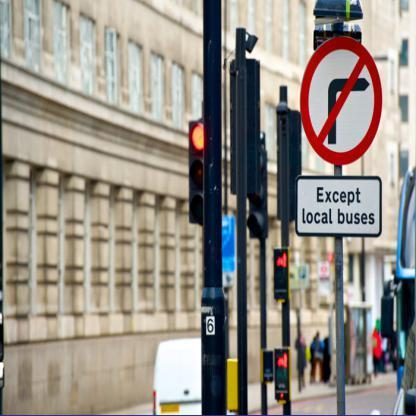Red Light: (186, 121, 210, 222)
